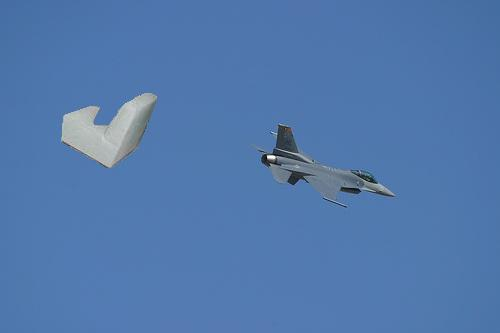tampered: (62, 94, 157, 168)
